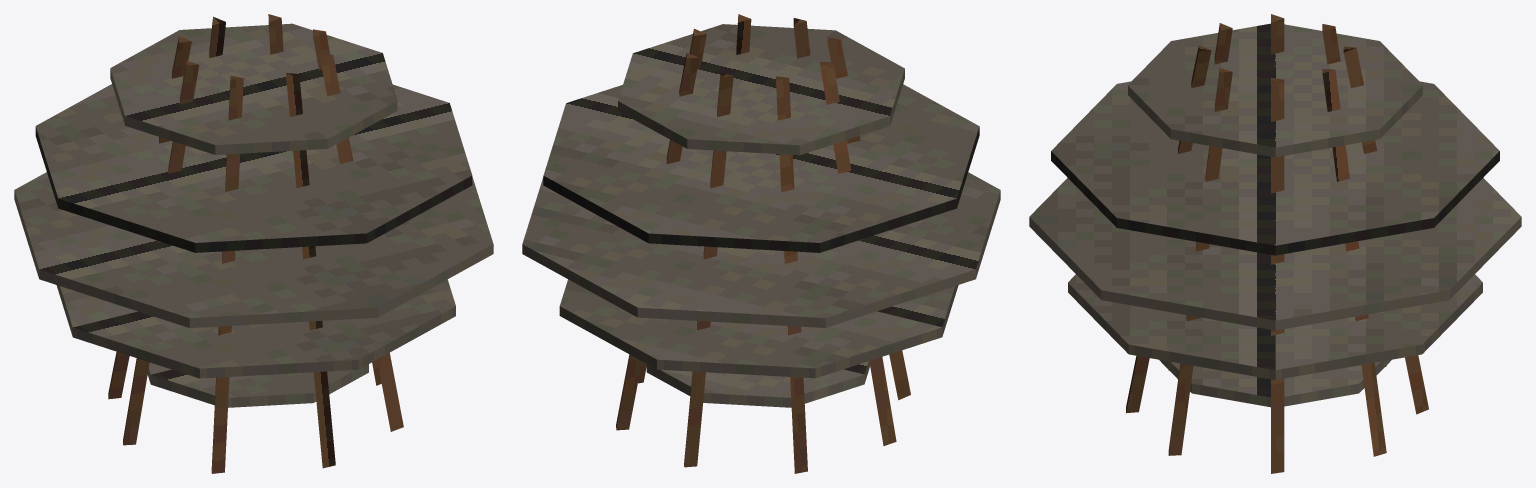
The model's file is nasa.obj.
The picture shows the model from 3 angles, left to right: view 1: azimuth 30°, elevation 25°; view 2: azimuth 150°, elevation 25°; view 3: azimuth 270°, elevation 25°; orthographic projection.
Visible parts, largest first — view 1: nasa; view 2: nasa; view 3: nasa.
Part boxes in pixels (x1,y1,x2,y2): nasa: (14, 14, 493, 473); nasa: (522, 14, 1000, 473); nasa: (1029, 14, 1521, 473).
Bounding box in the file's own units: 0.6783 × 0.5543 × 0.6783.
Materials: 2 (2 with a texture image).
